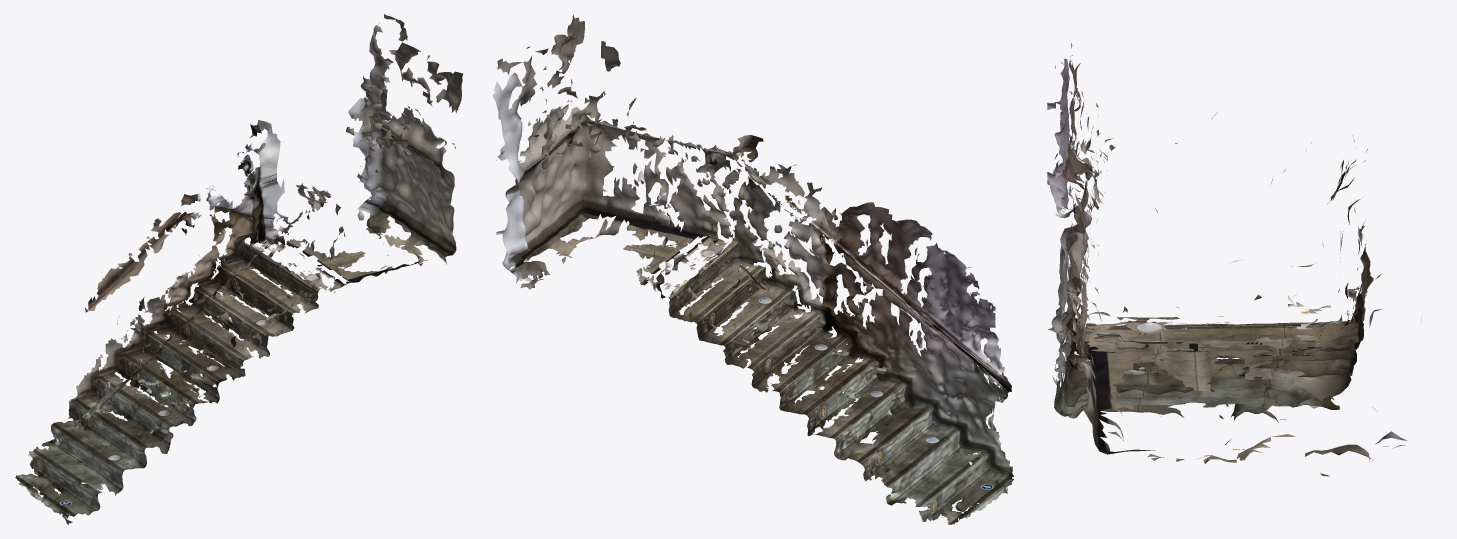
The model's file is 144544-tanggaB-tex.glb.
The picture shows the model from 3 angles, left to right: view 1: azimuth 30°, elevation 25°; view 2: azimuth 150°, elevation 25°; view 3: azimuth 270°, elevation 25°; orthographic projection. The views are drawn at different scales.
Parts seen in each view (by area): view 1: Node; view 2: Node; view 3: Node.
Boxes of the visible parts, x1,y1,x2,y2 form: Node: (15,14,463,524); Node: (492,14,1013,524); Node: (1047,43,1421,476).
Size of the model in its own units: 4.46 by 3.74 by 1.87.
Materials: 9 (9 with a texture image).
